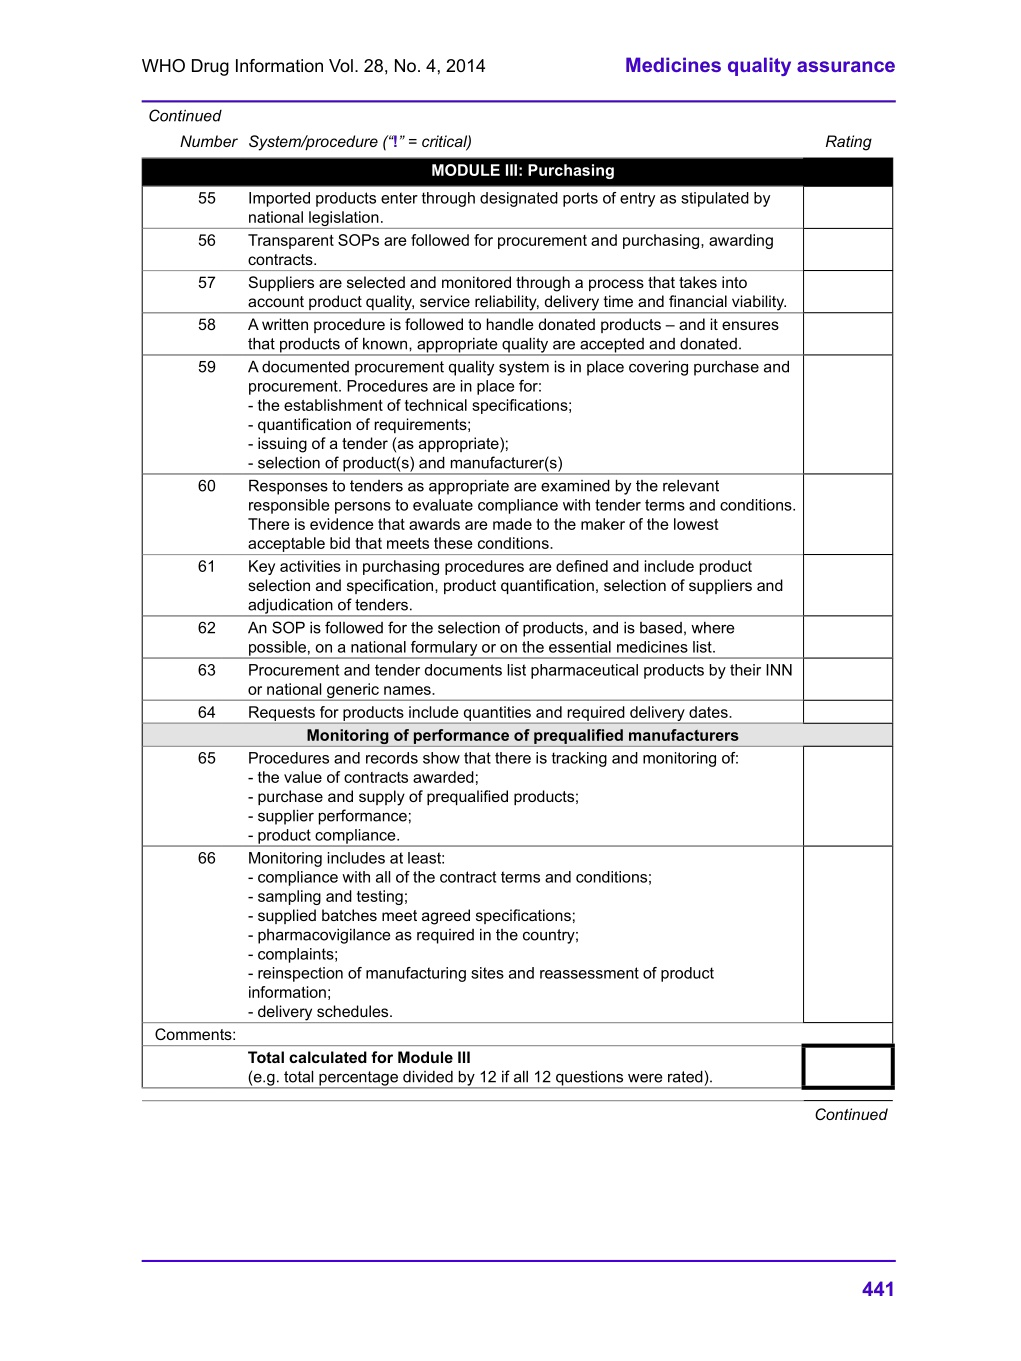partial_lined_merged_cells: (139, 156, 896, 1093)
